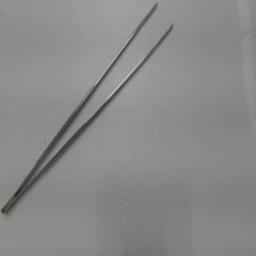DeBakey Dissector: (3, 1, 179, 221)
